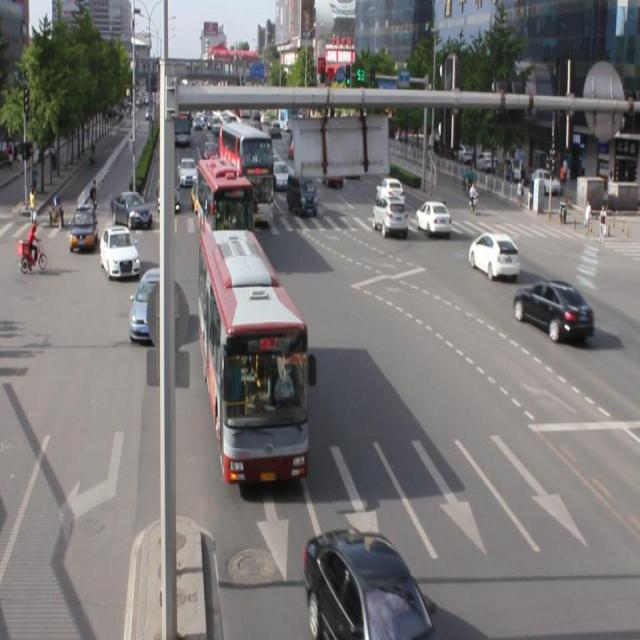car: (303, 527, 441, 640), (510, 277, 593, 342), (130, 265, 176, 341), (468, 231, 519, 277), (100, 225, 140, 279), (372, 194, 408, 237), (415, 199, 451, 234)
van: (200, 231, 308, 480)
